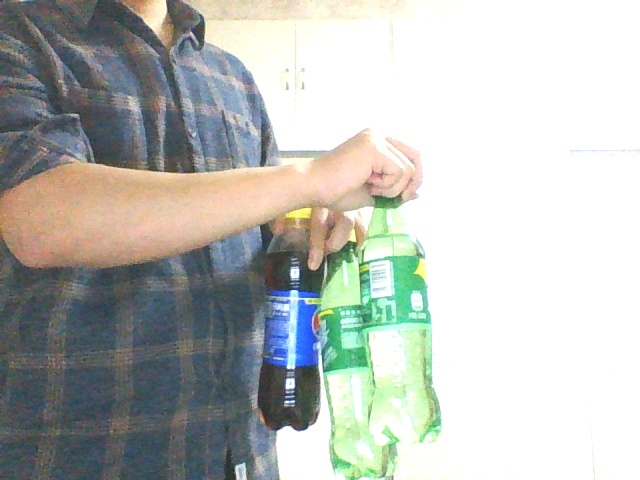Cola: (257, 204, 322, 430)
Sprite: (360, 181, 443, 444), (320, 227, 395, 476)
